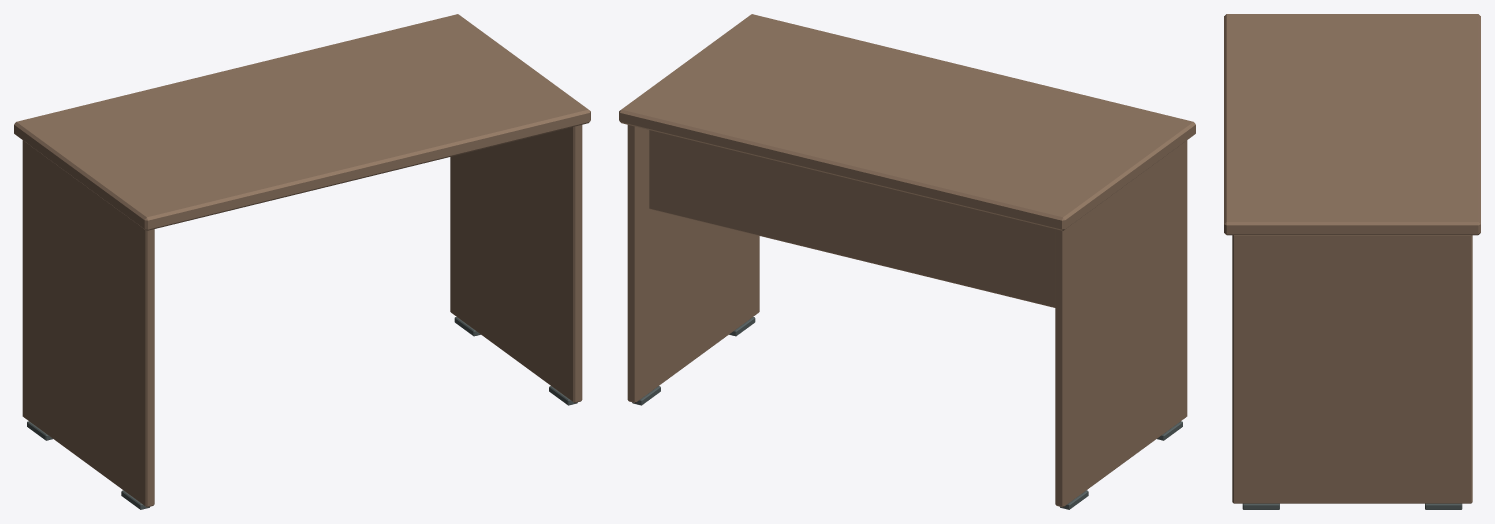
The model's file is dorm-desk.glb.
The picture shows the model from 3 angles, left to right: view 1: azimuth 30°, elevation 25°; view 2: azimuth 150°, elevation 25°; view 3: azimuth 270°, elevation 25°; orthographic projection. The views are drawn at different scales.
Parts seen in each view (by area): view 1: dorm-desk; view 2: dorm-desk; view 3: dorm-desk.
Part boxes in pixels (x1,y1,x2,y2): dorm-desk: (14, 14, 590, 509); dorm-desk: (619, 14, 1195, 509); dorm-desk: (1224, 14, 1480, 509).
Bounding box in the file's own units: 1.2 × 0.77 × 0.62.
